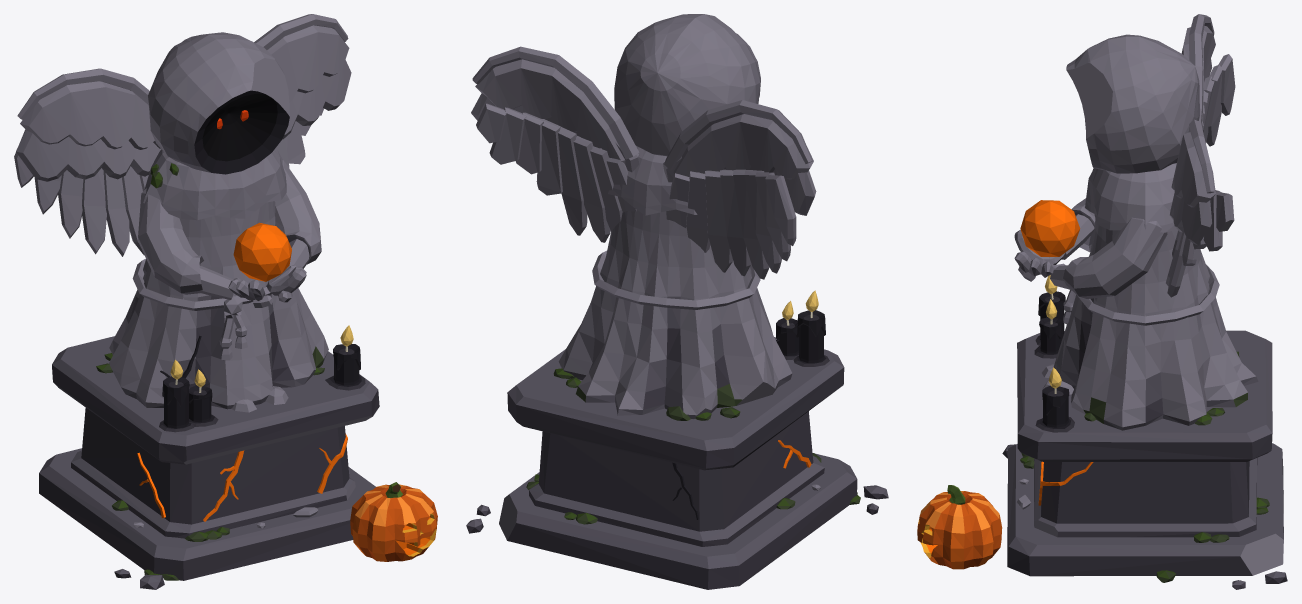
File: HalloweenAngelStatue.fbx
3 renders of one model, left to right at view 1: azimuth 30°, elevation 25°; view 2: azimuth 150°, elevation 25°; view 3: azimuth 270°, elevation 25°, orthographic. The views are drawn at different scales.
Parts seen in each view (by area): view 1: Statue_Angel, Statue_Pedestal, StatueDecor_JackOLantern_01, GLOW_fire_StatueOrb, StatueDecor_Candles_01, StatueDecor_Candles_02, GLOW_fire_StatueCracks; view 2: Statue_Angel, Statue_Pedestal, StatueDecor_Candles_01; view 3: Statue_Angel, Statue_Pedestal, StatueDecor_JackOLantern_01, GLOW_fire_StatueOrb, StatueDecor_Candles_01, StatueDecor_Candles_02.
Part boxes in pixels (x1,y1,x2,y2): Statue_Angel: (14,14,351,412); Statue_Pedestal: (39,336,379,589); StatueDecor_JackOLantern_01: (350,482,437,561); GLOW_fire_StatueOrb: (233,222,291,281); StatueDecor_Candles_01: (159,376,218,432); StatueDecor_Candles_02: (325,344,365,390); GLOW_fire_StatueCracks: (137,434,347,521); Statue_Angel: (471,14,816,418); Statue_Pedestal: (466,337,888,589); StatueDecor_Candles_01: (776,310,829,366); Statue_Angel: (1014,14,1258,430); Statue_Pedestal: (1002,330,1287,589); StatueDecor_JackOLantern_01: (917,485,1002,569); GLOW_fire_StatueOrb: (1020,200,1080,256); StatueDecor_Candles_01: (1034,291,1065,358); StatueDecor_Candles_02: (1035,385,1074,432).
Bounding box in the file's own units: 6.74 × 9.18 × 6.46.
Materials: 2 (2 with a texture image).
